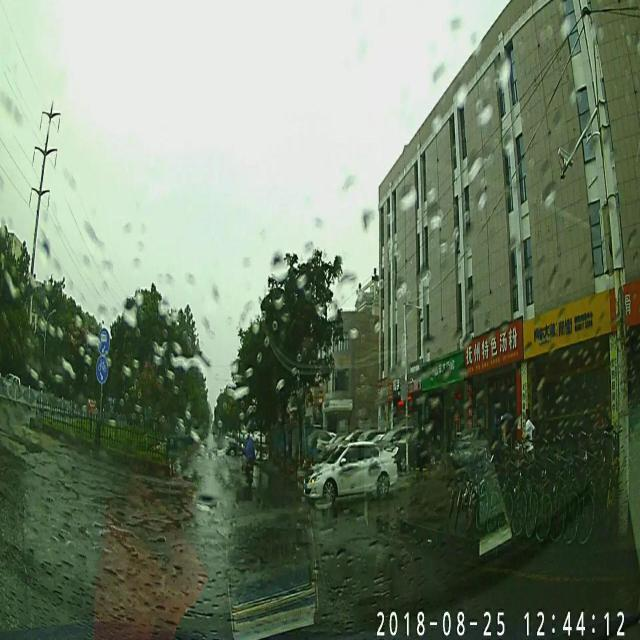car: (302, 441, 398, 507), (213, 436, 238, 456)
